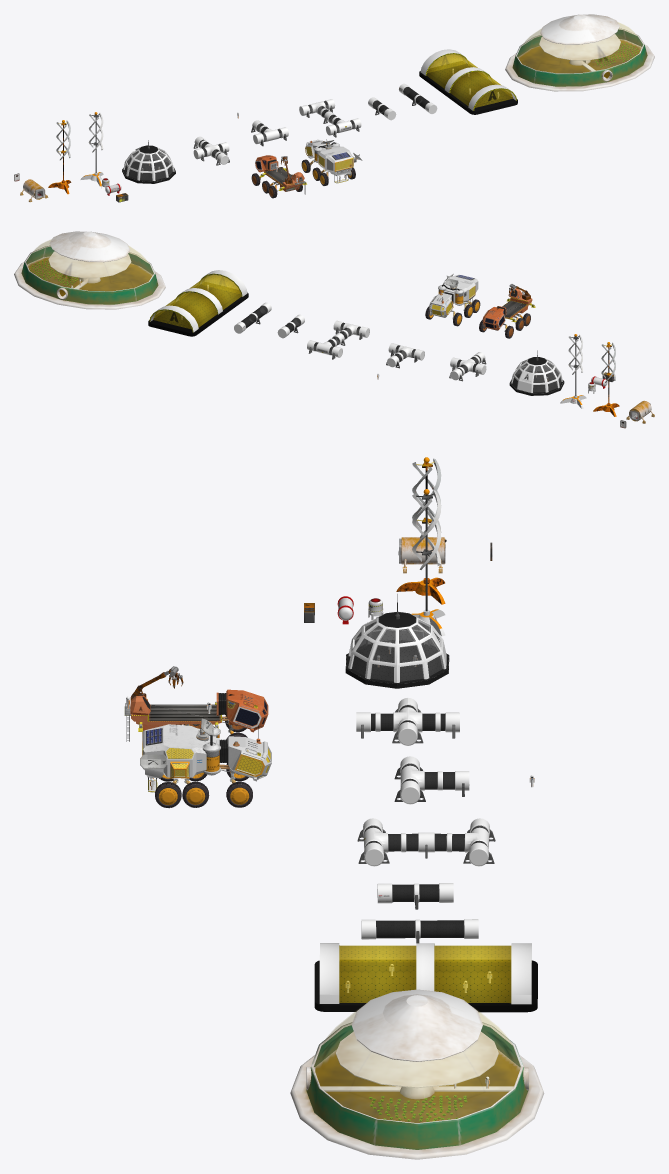
File: Escena.fbx
3 renders of one model, top to bottom at view 1: azimuth 30°, elevation 25°; view 2: azimuth 150°, elevation 25°; view 3: azimuth 270°, elevation 25°, orthographic. The views are drawn at different scales.
Visible parts, largest first — view 1: Cupula, Base, Invernadero, Vehiculo_1, Cupula1, Tubo_Doble_T, Tubo_X, Tubo_T, Molino, Molino1, Tubo_Largo, Plataforma_Camion (+1 smaller); view 2: Cupula, Base, Invernadero, Vehiculo_1, Cupula1, Tubo_Doble_T, Tubo_X, Tubo_T, Molino, Molino1, Cabina, Tubo_Largo (+2 smaller); view 3: Cupula, Base, Invernadero, Vehiculo_1, Cupula1, Tubo_Doble_T, Tubo_X, Tubo_Largo, Tubo_T, Molino, Cabina, Plataforma_Camion (+2 smaller).
Part boxes in pixels (x1,y1,x2,y2): Cupula: (512, 14, 647, 86); Base: (505, 34, 654, 91); Invernadero: (419, 49, 517, 114); Vehiculo_1: (301, 139, 362, 185); Cupula1: (122, 140, 175, 183); Tubo_Doble_T: (299, 99, 361, 137); Tubo_X: (193, 136, 229, 165); Tubo_T: (251, 120, 288, 146); Molino: (80, 112, 103, 186); Molino1: (48, 120, 71, 194); Tubo_Largo: (399, 83, 437, 113); Plataforma_Camion: (264, 167, 303, 188); Cupula: (21, 231, 158, 304); Base: (14, 251, 165, 309); Invernadero: (148, 270, 248, 336); Vehiculo_1: (425, 273, 480, 326); Cupula1: (509, 350, 564, 395); Tubo_Doble_T: (307, 320, 369, 359); Tubo_X: (449, 352, 486, 381); Tubo_T: (386, 343, 424, 368); Molino: (560, 334, 586, 408); Molino1: (593, 342, 619, 416); Cabina: (482, 306, 505, 330); Tubo_Largo: (234, 302, 271, 333); Cupula: (306, 989, 528, 1149); Base: (290, 1031, 544, 1159); Invernadero: (314, 943, 537, 1012); Vehiculo_1: (140, 718, 271, 808); Cupula1: (345, 594, 449, 688); Tubo_Doble_T: (357, 818, 495, 866); Tubo_X: (356, 698, 459, 745); Tubo_Largo: (361, 919, 478, 943); Tubo_T: (394, 756, 469, 804); Molino: (411, 489, 445, 636); Cabina: (218, 689, 268, 732); Plataforma_Camion: (131, 699, 221, 724).
Size of the model in its own units: 2124 by 224 by 621.
